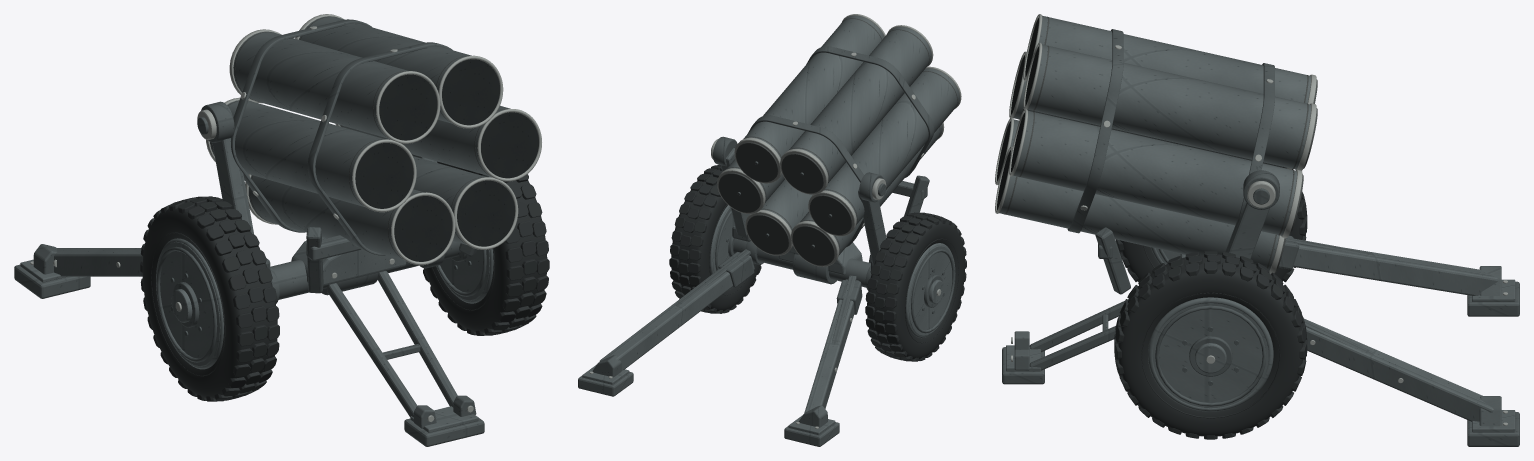
The model's file is nebelwerfer41-visual-prop.glb.
3 views of the same model, side by side, from view 1: azimuth 30°, elevation 25°; view 2: azimuth 150°, elevation 25°; view 3: azimuth 270°, elevation 25° (orthographic). The views are drawn at different scales.
Parts seen in each view (by area): view 1: N41_Solid_Tube_3, N41_Solid_Tube_4, N41_Wheel_Carcass_-1, N41_Solid_Tube_5, N41_Solid_Tube_2, N41_Solid_Tube_1, N41_Solid_Tube_6, N41_Wheel_Carcass_1, N41_Wheel_Disc_-1_-1, N41_Trail_Beam_-1, N41_Exterior_Bundle_Band_1, N41_Exterior_Bundle_Band_2 (+22 smaller); view 2: N41_Solid_Tube_3, N41_Solid_Tube_4, N41_Solid_Tube_2, N41_Wheel_Carcass_-1, N41_Trail_Beam_1, N41_Wheel_Carcass_1, N41_Wheel_Disc_-1_-1, N41_Trail_Beam_-1, N41_Exterior_Bundle_Band_1, N41_Solid_Tube_6, N41_Shallow_Dark_End_1_1, N41_Shallow_Dark_End_3_1 (+31 smaller); view 3: N41_Solid_Tube_2, N41_Solid_Tube_1, N41_Wheel_Carcass_1, N41_Solid_Tube_6, N41_Solid_Tube_3, N41_Wheel_Disc_1_1, N41_Trail_Beam_1, N41_Trail_Beam_-1, N41_Exterior_Bundle_Band_1, N41_Rolled_Rim_Lip_1_1, N41_Inner_Disc_Recess_1_1, N41_Exterior_Bundle_Band_2 (+15 smaller).
Boxes of the visible parts, x1,y1,x2,y2 form: N41_Solid_Tube_3: (233,31,437,140); N41_Solid_Tube_4: (210,100,413,208); N41_Wheel_Carcass_-1: (142,203,277,398); N41_Solid_Tube_5: (248,175,452,261); N41_Solid_Tube_2: (299,16,499,125); N41_Solid_Tube_1: (340,105,538,178); N41_Solid_Tube_6: (412,156,515,246); N41_Wheel_Carcass_1: (424,161,547,332); N41_Wheel_Disc_-1_-1: (156,241,220,366); N41_Trail_Beam_-1: (54,248,142,276); N41_Exterior_Bundle_Band_1: (307,42,490,255); N41_Exterior_Bundle_Band_2: (230,19,371,232); N41_Solid_Tube_3: (789,27,931,182); N41_Solid_Tube_4: (824,68,959,224); N41_Solid_Tube_2: (743,15,884,158); N41_Wheel_Carcass_-1: (867,217,965,359); N41_Trail_Beam_1: (599,252,754,370); N41_Wheel_Carcass_1: (671,169,760,311); N41_Wheel_Disc_-1_-1: (908,245,955,336); N41_Trail_Beam_-1: (804,279,858,412); N41_Exterior_Bundle_Band_1: (806,46,934,177); N41_Solid_Tube_6: (761,179,812,230); N41_Shallow_Dark_End_1_1: (718,172,761,212); N41_Shallow_Dark_End_3_1: (781,153,824,193); N41_Solid_Tube_2: (1025,44,1310,169); N41_Solid_Tube_1: (1011,110,1296,235); N41_Wheel_Carcass_1: (1118,254,1303,436); N41_Solid_Tube_6: (997,150,1279,270); N41_Solid_Tube_3: (1025,15,1310,103); N41_Wheel_Disc_1_1: (1152,303,1268,408); N41_Trail_Beam_1: (1304,318,1493,421); N41_Trail_Beam_-1: (1293,244,1498,295); N41_Exterior_Bundle_Band_1: (1067,29,1123,233); N41_Rolled_Rim_Lip_1_1: (1148,297,1273,411); N41_Inner_Disc_Recess_1_1: (1155,305,1266,406); N41_Exterior_Bundle_Band_2: (1225,63,1274,252).
Bounding box in the file's own units: 1.86 × 1.92 × 2.69.
Materials: 12 (9 with a texture image).
